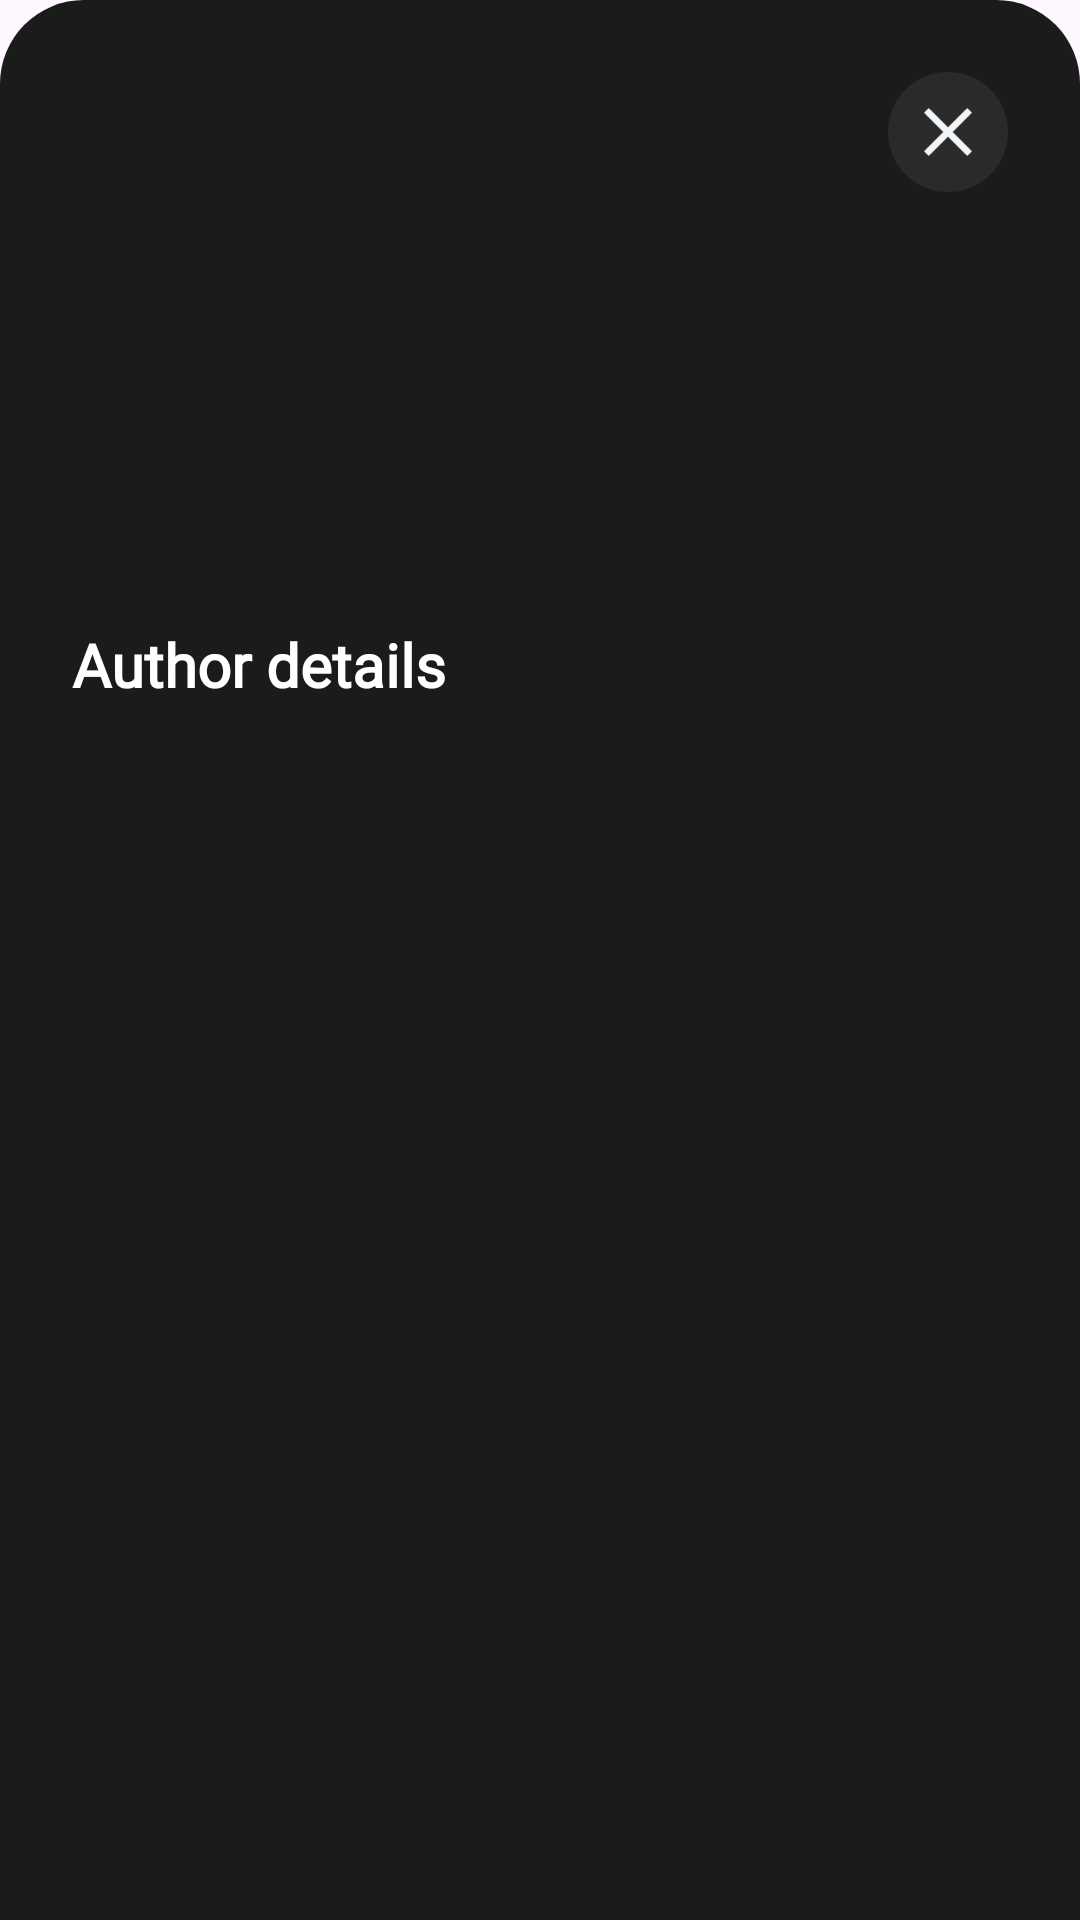

Point at icon controls on the screen. Image size 1080px x 1920px, points as (x,y).
close: (948,132)
